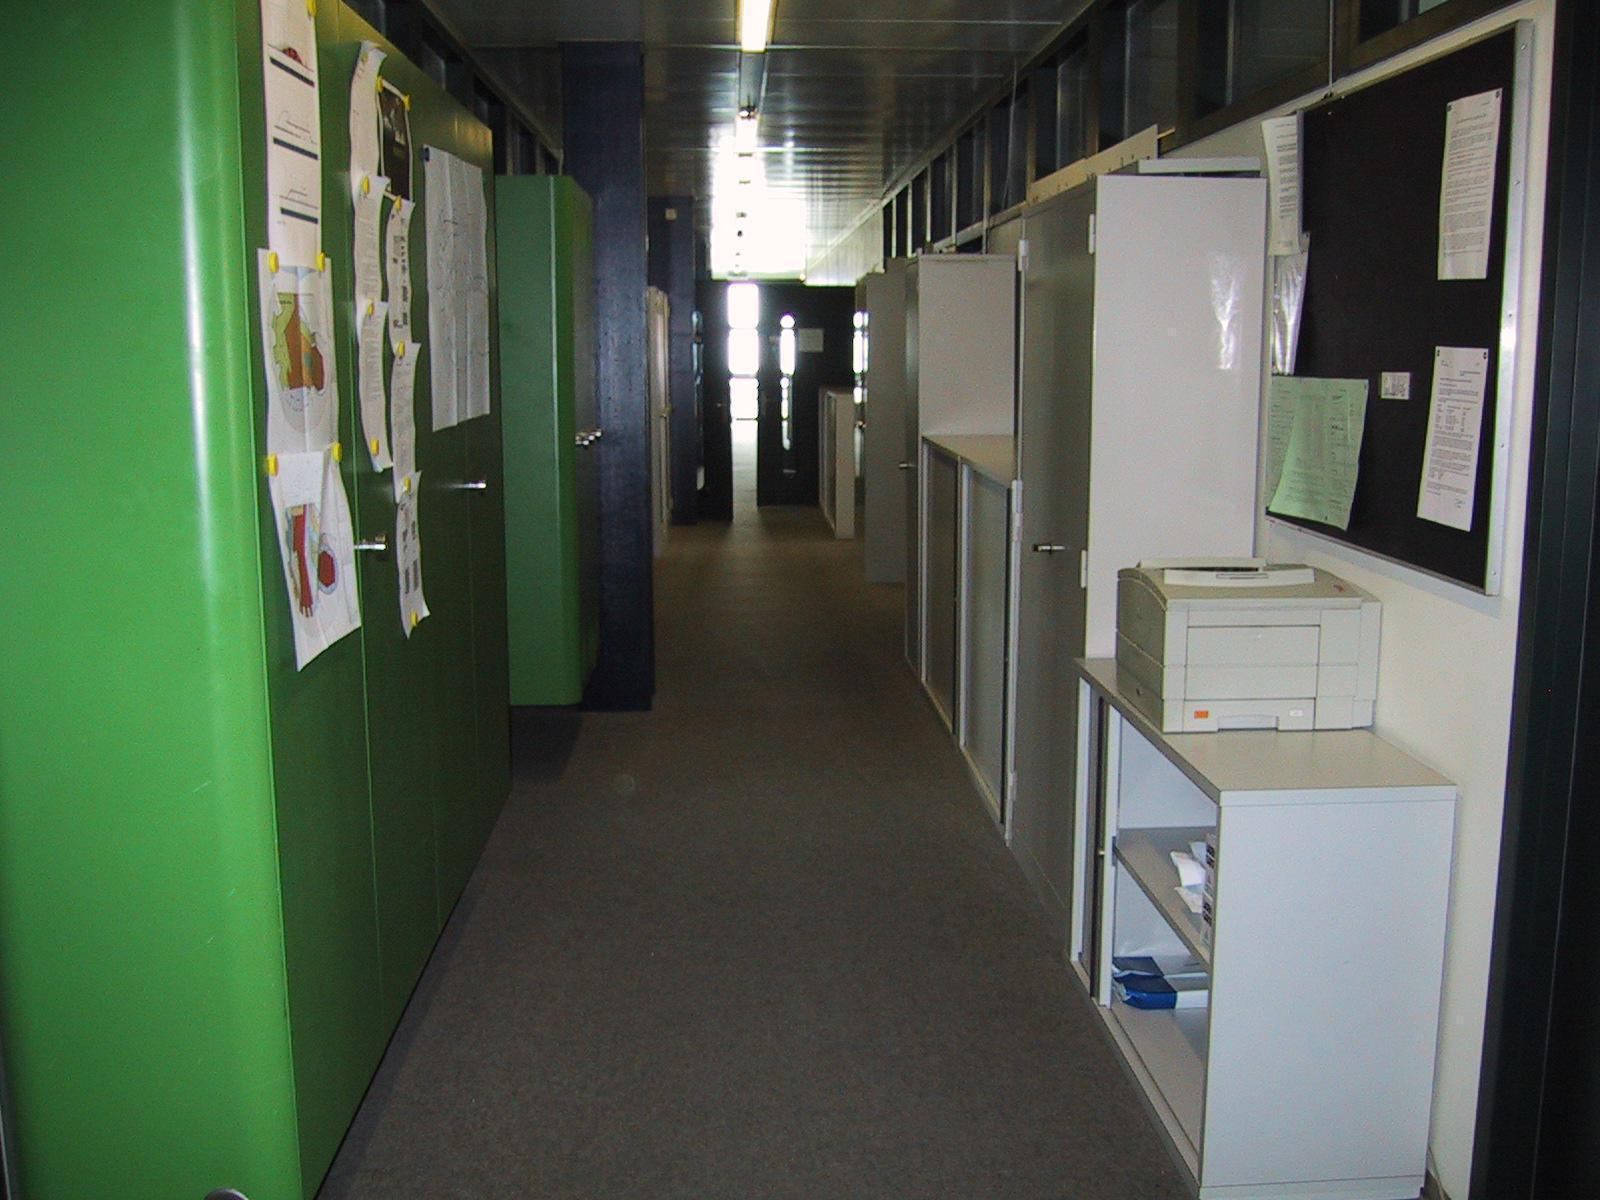Armario: (13, 10, 425, 1197), (1013, 195, 1091, 934), (433, 125, 498, 923), (518, 195, 602, 716), (898, 258, 934, 689)
